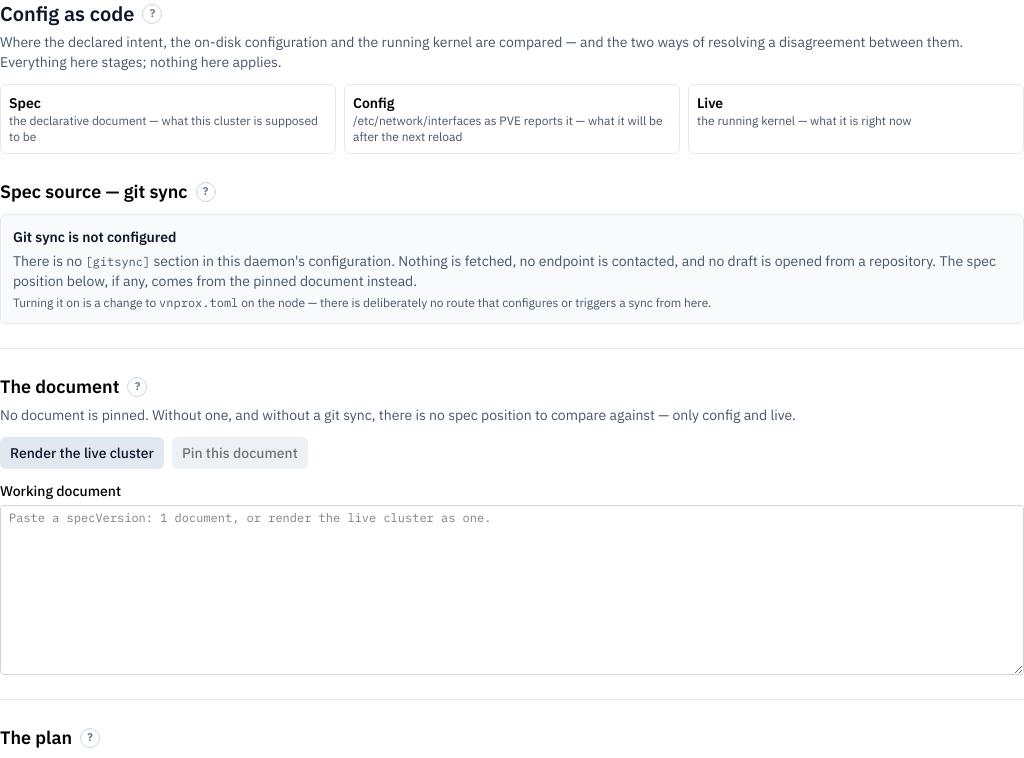
Test: config-as-code cockpit — the plan states two facts › shows the daemon's own rejection of a document it cannot parse
Click the button "Render the live cluster".
click(82, 453)  # box [0, 437, 164, 469]
(page scrolled)
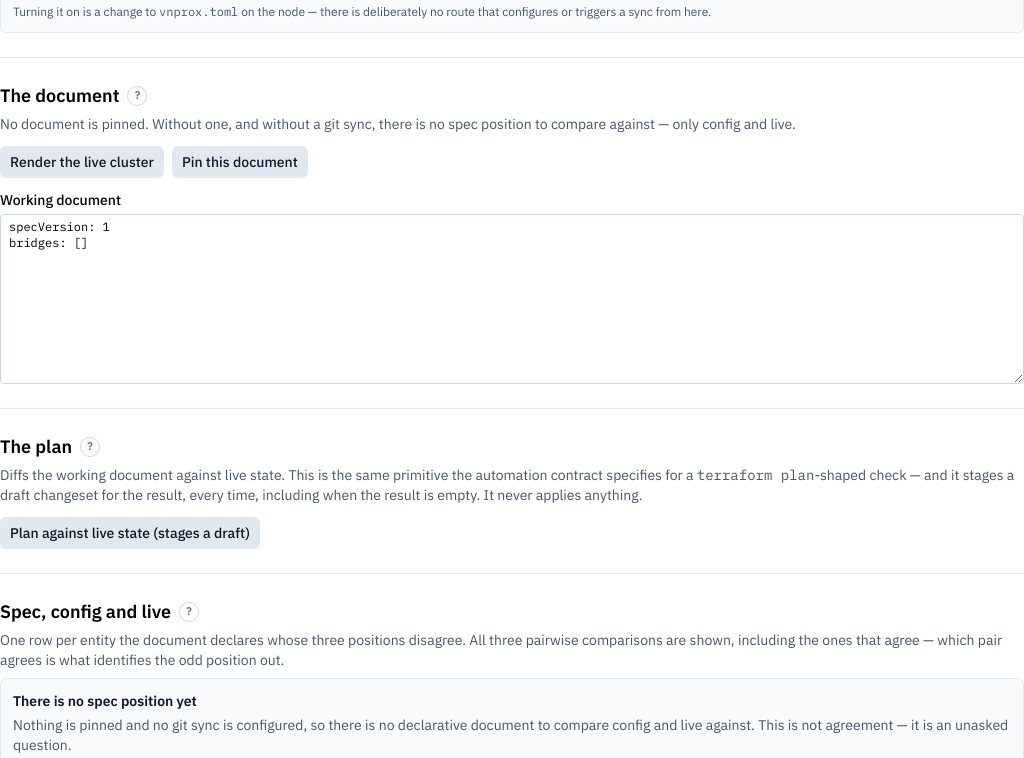
Click the button "Plan against live state (stages a draft)".
click(130, 533)  # box [0, 517, 260, 549]
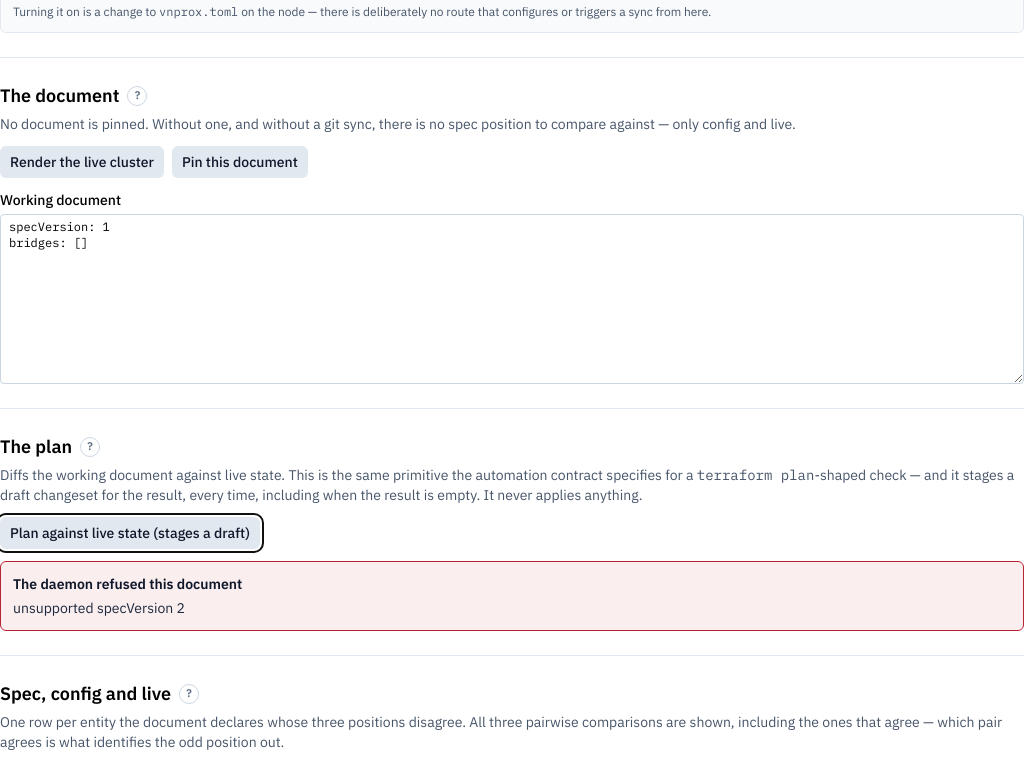
Check: the text "unsupported specVersion 2" is shown, box [13, 599, 185, 617]
